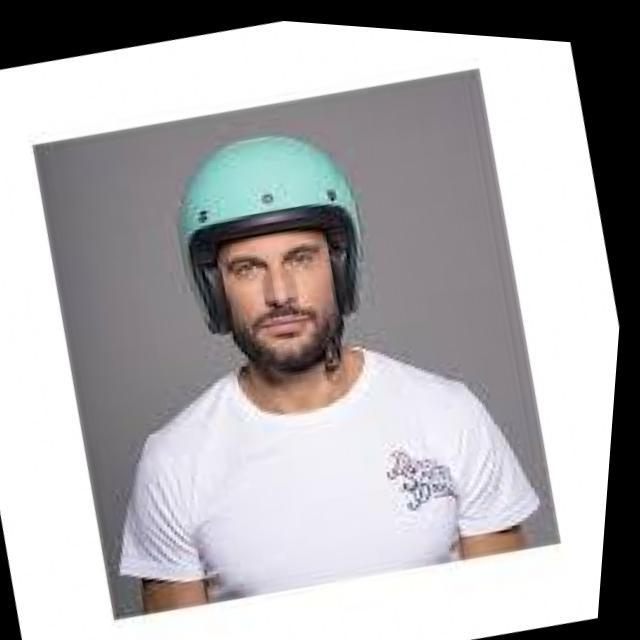Nonhelmet: (175, 131, 368, 375)
